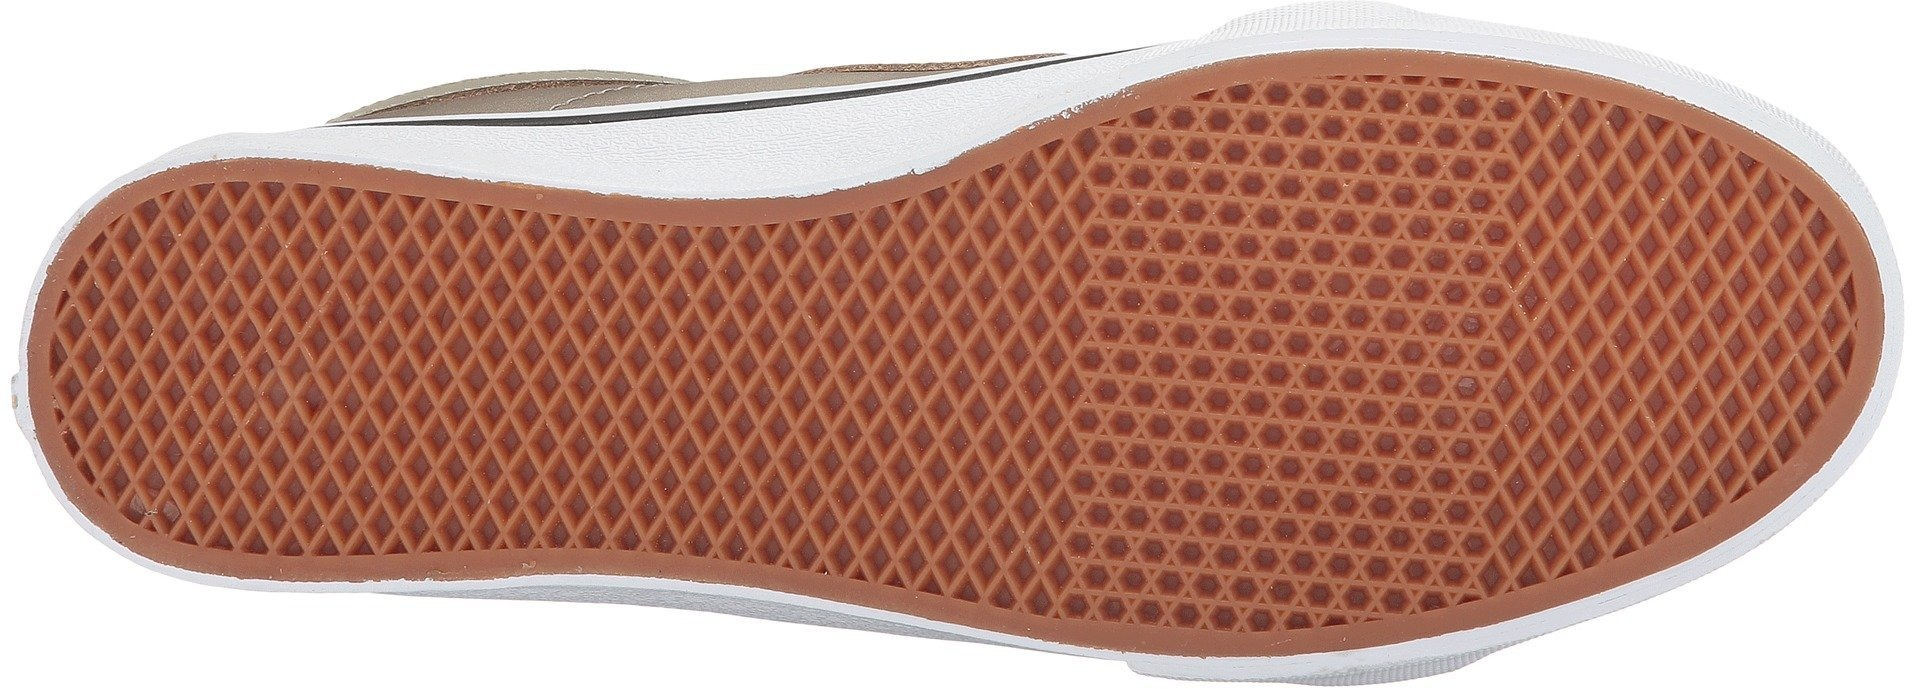polygon: (1101, 365, 1378, 622), (1308, 95, 1508, 339), (1101, 120, 1306, 355)
quad: (641, 232, 924, 540), (376, 216, 634, 526), (1514, 132, 1782, 400), (80, 265, 365, 507), (932, 376, 1086, 580), (928, 189, 1099, 361), (1505, 407, 1669, 561)
triangle: (1101, 365, 1378, 622), (1308, 95, 1508, 339), (1101, 120, 1306, 355)
